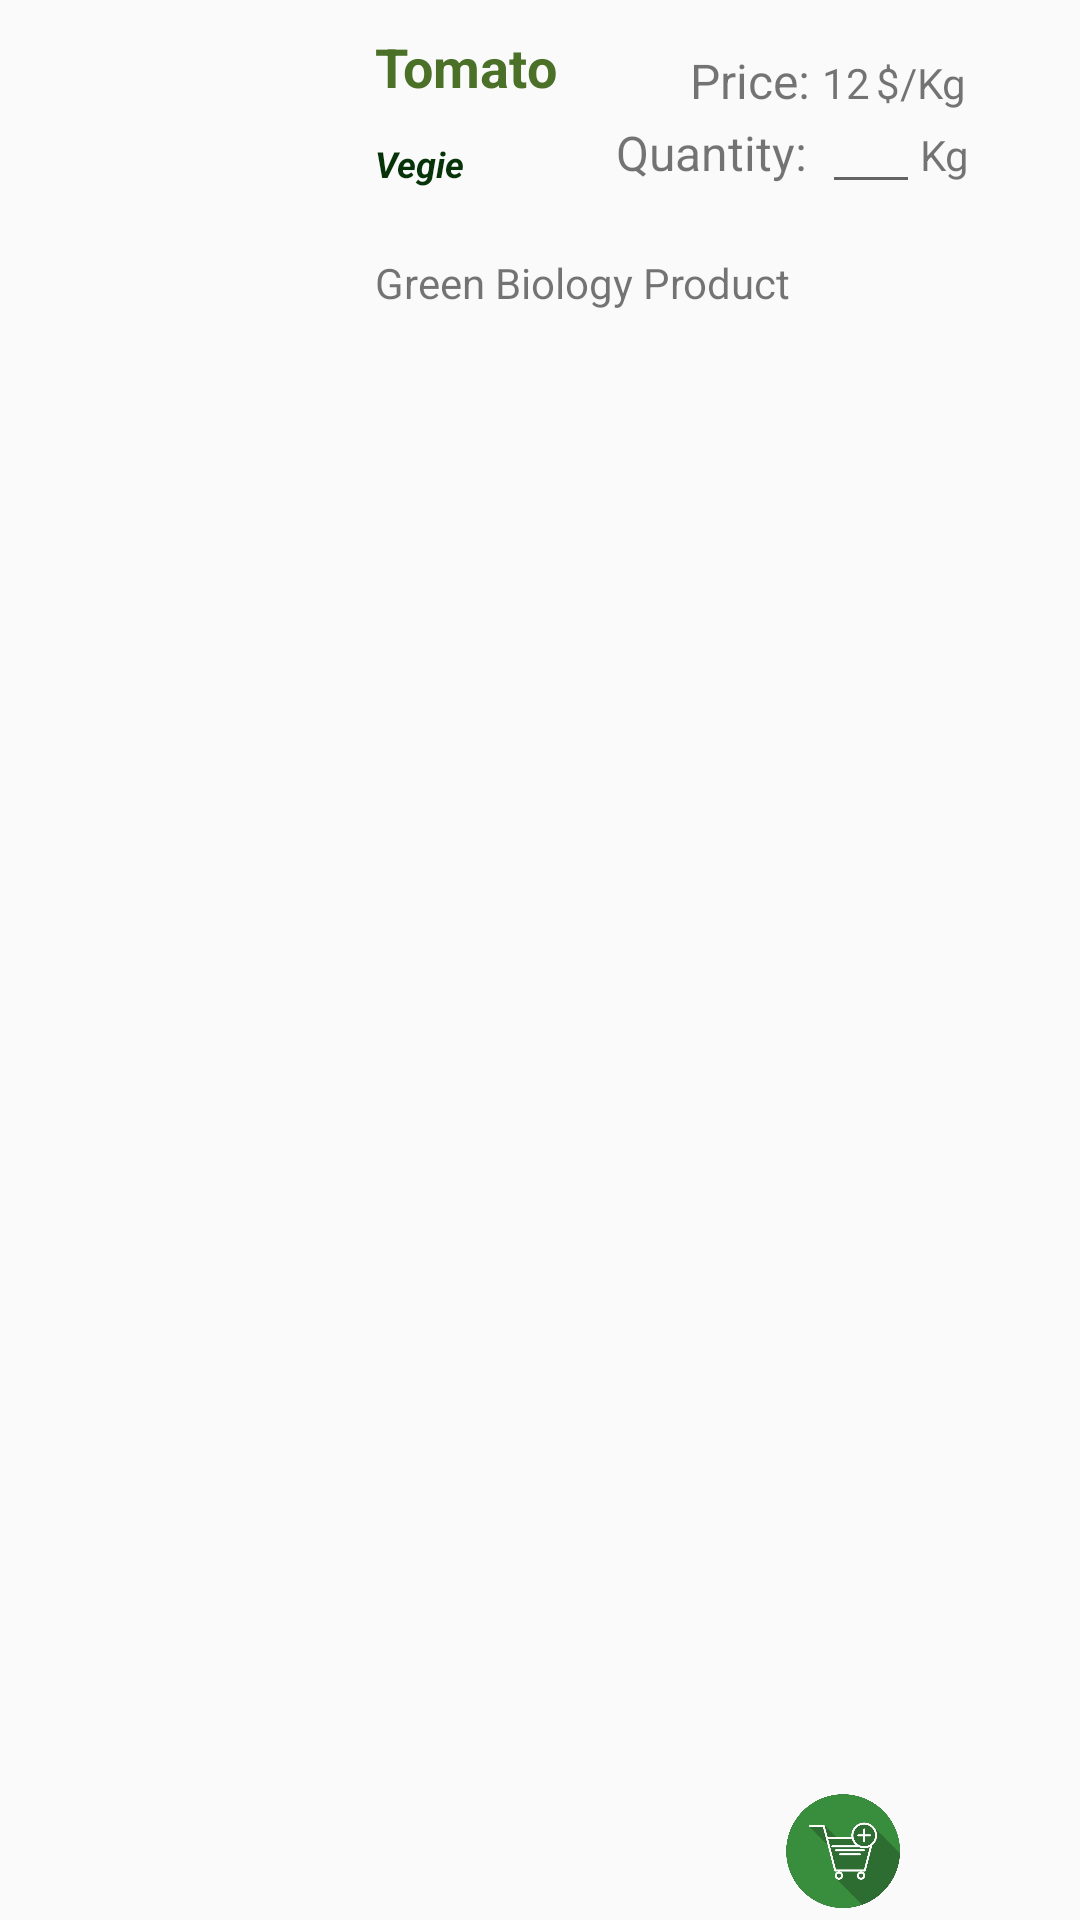

Icons on this 1080x1920 Android screen, each with the point to tap as (x=x, y=y):
add to cart: (x=843, y=1851)
